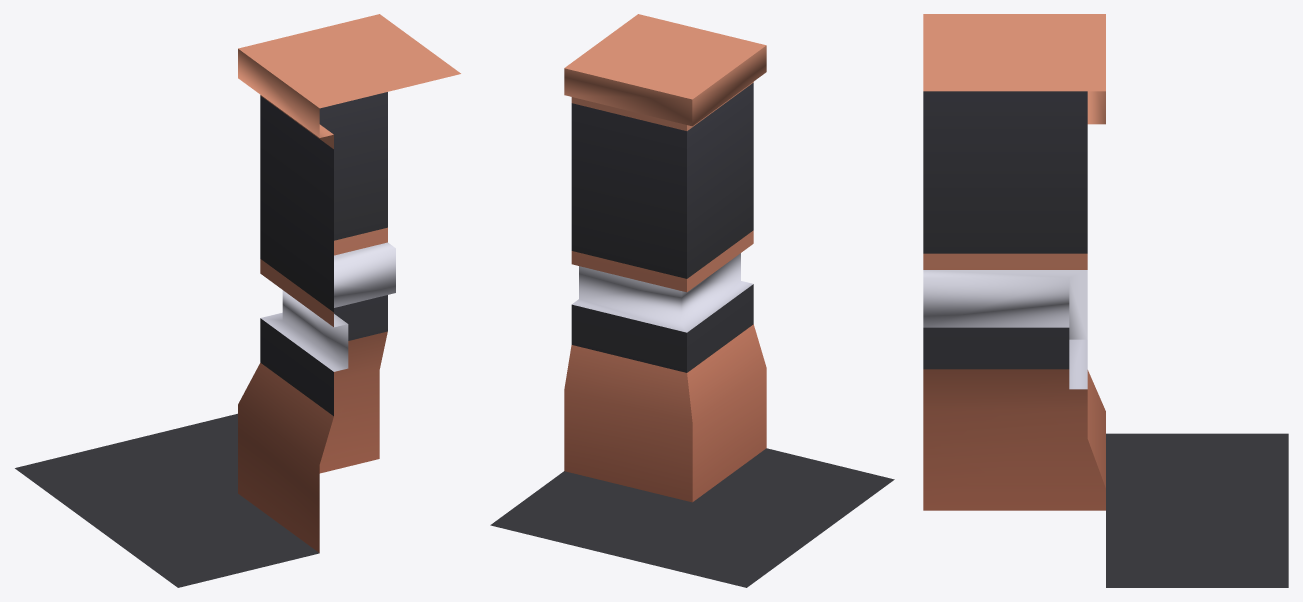
The model's file is structure-corner-outer.obj.
3 renders of one model, left to right at view 1: azimuth 30°, elevation 25°; view 2: azimuth 150°, elevation 25°; view 3: azimuth 270°, elevation 25°, orthographic. The views are drawn at different scales.
Parts seen in each view (by area): view 1: structure-corner-outer; view 2: structure-corner-outer; view 3: structure-corner-outer.
Part boxes in pixels (x1,y1,x2,y2): structure-corner-outer: [15, 14, 460, 587]; structure-corner-outer: [490, 14, 894, 587]; structure-corner-outer: [923, 14, 1288, 587].
Bounding box in the file's own units: 2 × 3 × 2.
